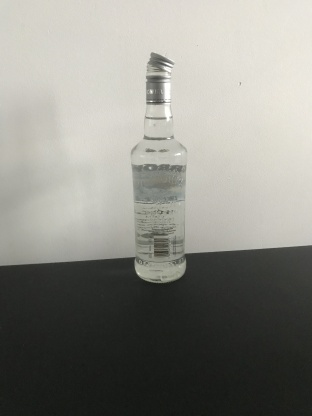nakretka: (144, 49, 176, 105)
